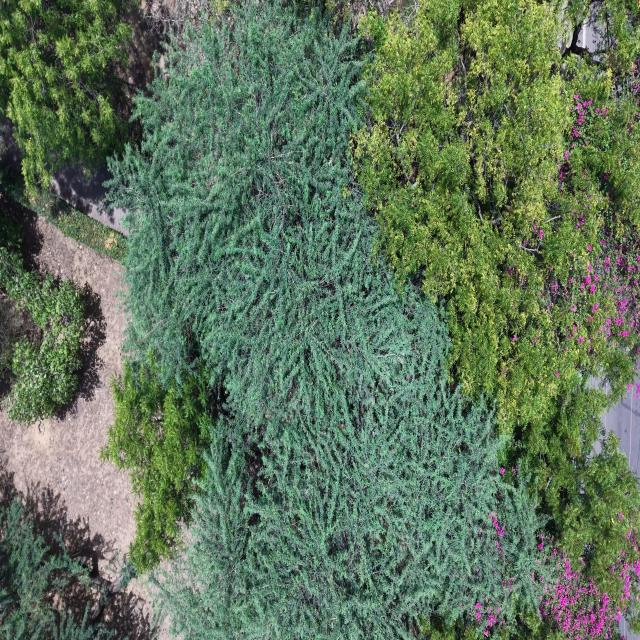DRY_AREA: (0, 215, 134, 573)
VEGETATION_TREE: (103, 0, 639, 639), (110, 3, 540, 638), (354, 0, 639, 609), (355, 0, 639, 440), (162, 329, 541, 638), (355, 0, 568, 424), (0, 0, 134, 260), (0, 0, 130, 259), (101, 353, 214, 573), (0, 0, 131, 188), (421, 534, 622, 639), (541, 433, 639, 611), (0, 234, 86, 423), (0, 500, 110, 639), (0, 147, 126, 262), (2, 269, 85, 423), (0, 166, 126, 263), (540, 548, 620, 639), (29, 192, 126, 263), (561, 0, 638, 71), (0, 297, 20, 384), (0, 299, 19, 380), (0, 215, 22, 251)
